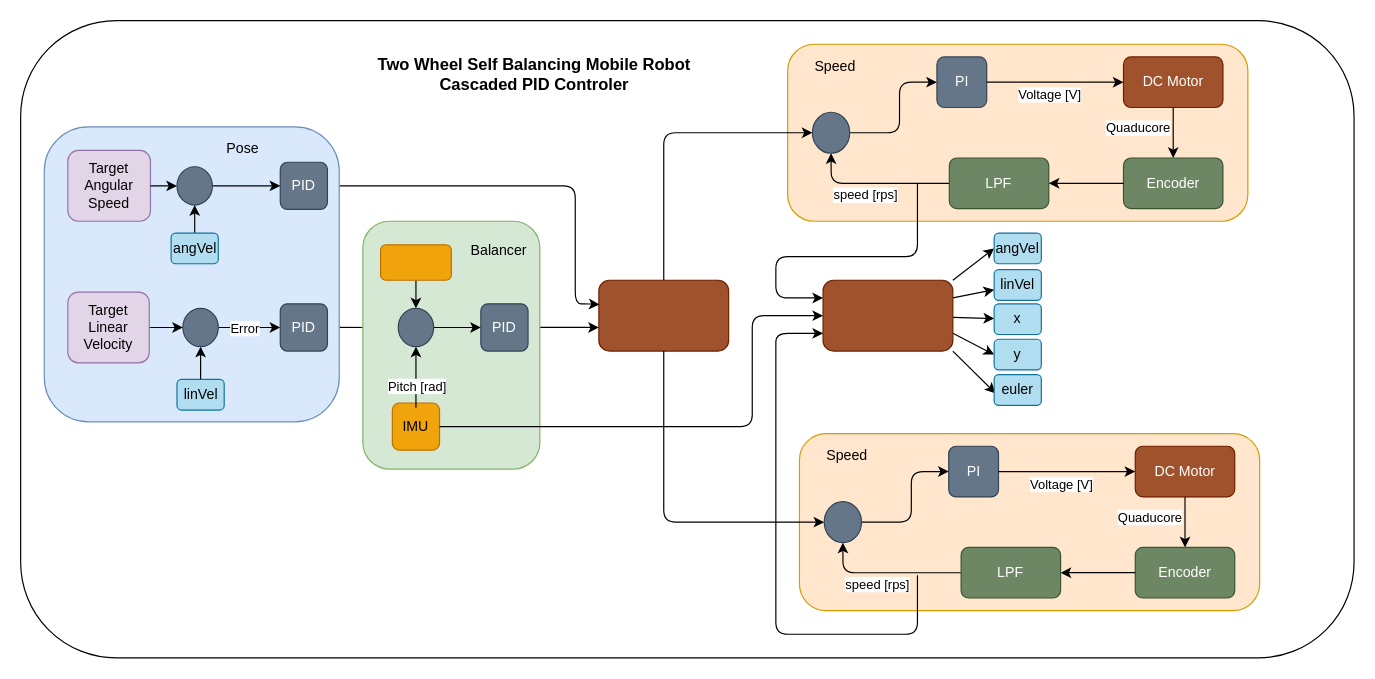
The diagram is 1375 pixels wide and 679 high, and some of its shapes have lost their labels. Each missing label, with the box of its shape:
DDMR Inverse Kinematics: (598, 279, 729, 351)
Offset: (379, 244, 451, 280)
TWSB Forwards Kinematics: (822, 279, 953, 351)
